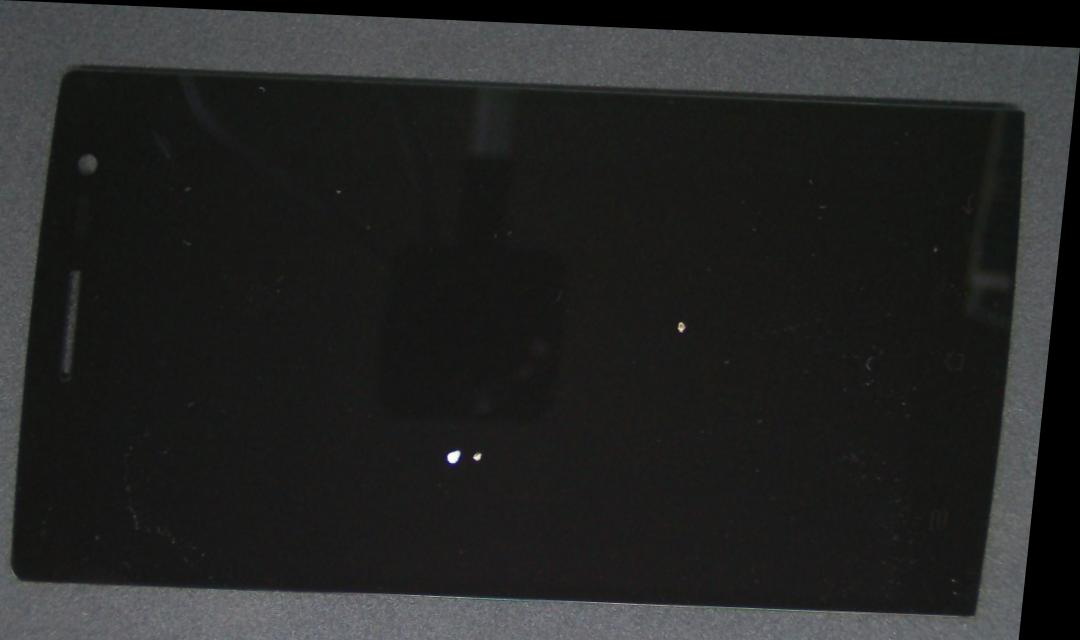Scratches: (656, 308, 702, 347), (444, 432, 465, 478), (471, 439, 490, 474)
